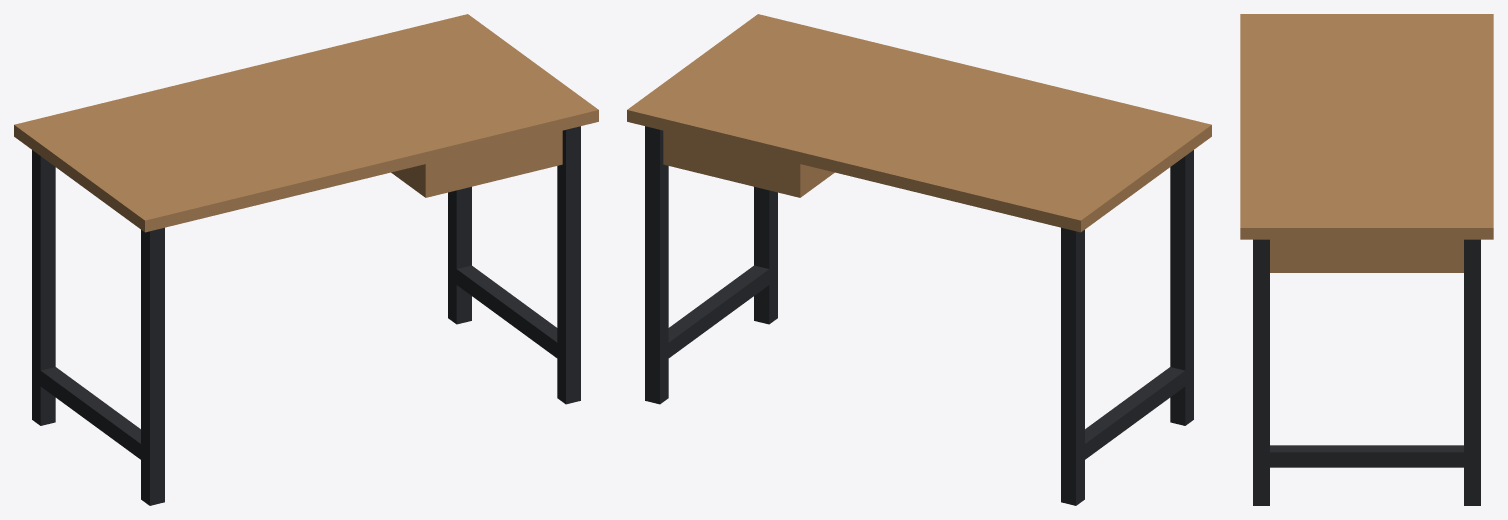
The picture shows the model from 3 angles, left to right: view 1: azimuth 30°, elevation 25°; view 2: azimuth 150°, elevation 25°; view 3: azimuth 270°, elevation 25°; orthographic projection. The views are drawn at different scales.
Visible parts, largest first — view 1: p02; view 2: p02; view 3: p02.
Boxes of the visible parts, bbox=[...] form: p02: bbox=[14, 14, 598, 505]; p02: bbox=[627, 14, 1211, 505]; p02: bbox=[1240, 14, 1493, 505].
Size of the model in its own units: 1.2 by 0.74 by 0.6.
